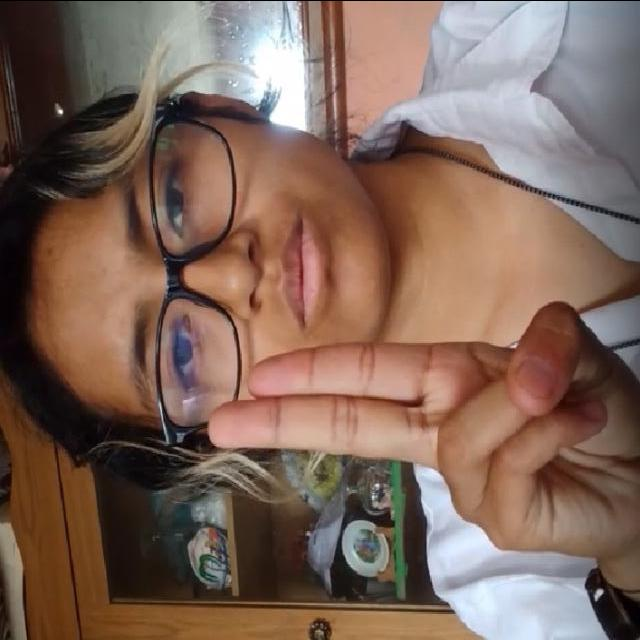U: (193, 299, 640, 542)
